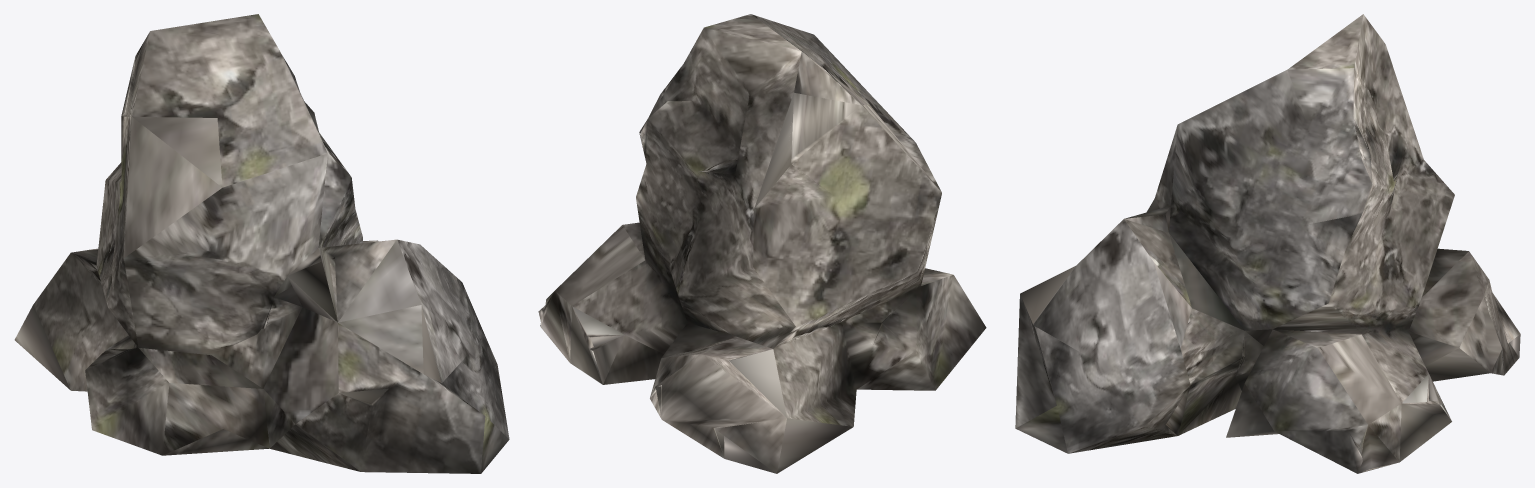
File: boulder_f_lod2.glb
3 renders of one model, left to right at view 1: azimuth 30°, elevation 25°; view 2: azimuth 150°, elevation 25°; view 3: azimuth 270°, elevation 25°, orthographic. The views are drawn at different scales.
Parts seen in each view (by area): view 1: boulder_f_lod2; view 2: boulder_f_lod2; view 3: boulder_f_lod2.
Part boxes in pixels (x1,y1,x2,y2): boulder_f_lod2: (14, 14, 509, 473); boulder_f_lod2: (538, 14, 986, 473); boulder_f_lod2: (1015, 14, 1520, 473).
Size of the model in its own units: 3.15 by 2.94 by 3.88.
Materials: 1 (1 with a texture image).
